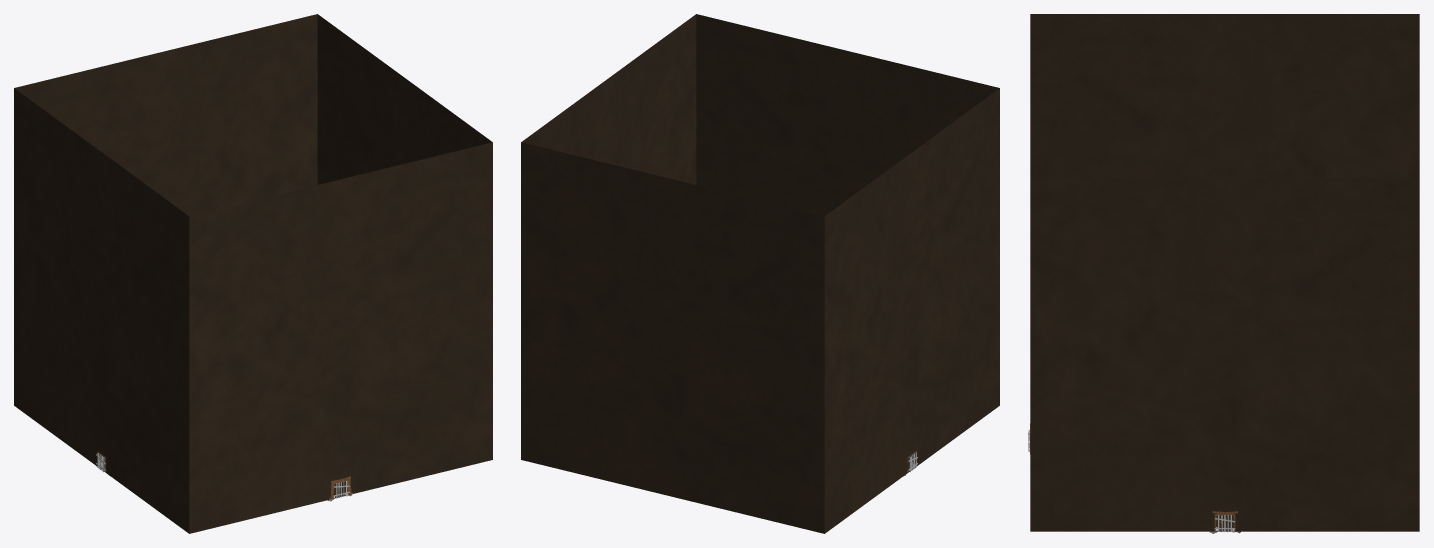
Rendered from Room013.fbx.
The picture shows the model from 3 angles, left to right: view 1: azimuth 30°, elevation 25°; view 2: azimuth 150°, elevation 25°; view 3: azimuth 270°, elevation 25°; orthographic projection. The views are drawn at different scales.
Parts seen in each view (by area): view 1: 4ParedN, 3ParedE, 2ParedSinPuertaS, 1ParedW, 4Pared.001N, 4Pared.002N, 3Pared.002E, 3Pared.001E; view 2: 2ParedSinPuertaS, 3ParedE, 4ParedN, 1ParedW, 3Pared.001E, 3Pared.002E; view 3: 1ParedW, 3ParedE, 1Pared.001W, 1Pared.002W.
Boxes of the visible parts, <box> form: 4ParedN: <box>189,142,492,517</box>; 3ParedE: <box>14,88,189,517</box>; 2ParedSinPuertaS: <box>14,14,317,216</box>; 1ParedW: <box>317,14,492,184</box>; 4Pared.001N: <box>189,483,331,533</box>; 4Pared.002N: <box>350,444,492,494</box>; 3Pared.002E: <box>106,457,189,533</box>; 3Pared.001E: <box>14,390,96,465</box>; 2ParedSinPuertaS: <box>521,142,824,533</box>; 3ParedE: <box>824,88,999,517</box>; 4ParedN: <box>696,14,999,216</box>; 1ParedW: <box>521,14,696,184</box>; 3Pared.001E: <box>824,457,907,533</box>; 3Pared.002E: <box>917,390,999,465</box>; 1ParedW: <box>1030,178,1419,513</box>; 3ParedE: <box>1030,14,1419,178</box>; 1Pared.001W: <box>1235,514,1419,531</box>; 1Pared.002W: <box>1030,514,1214,531</box>.
Size of the model in its own units: 9691 by 10400 by 9646.
